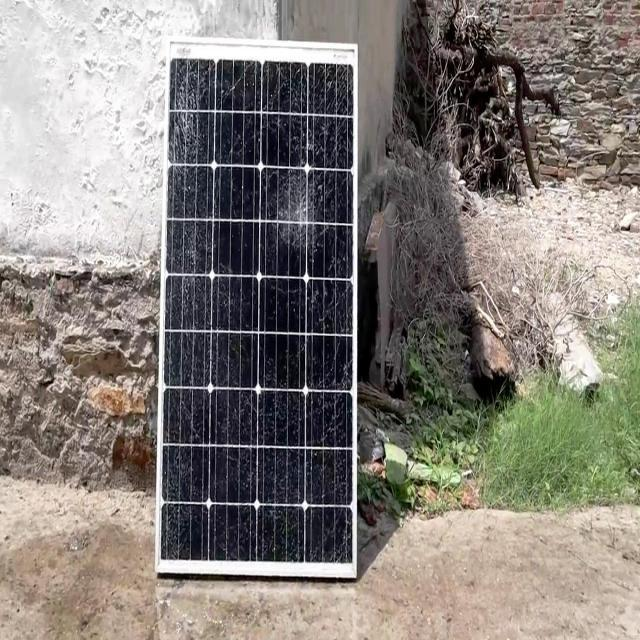faulty: (157, 32, 361, 586)
